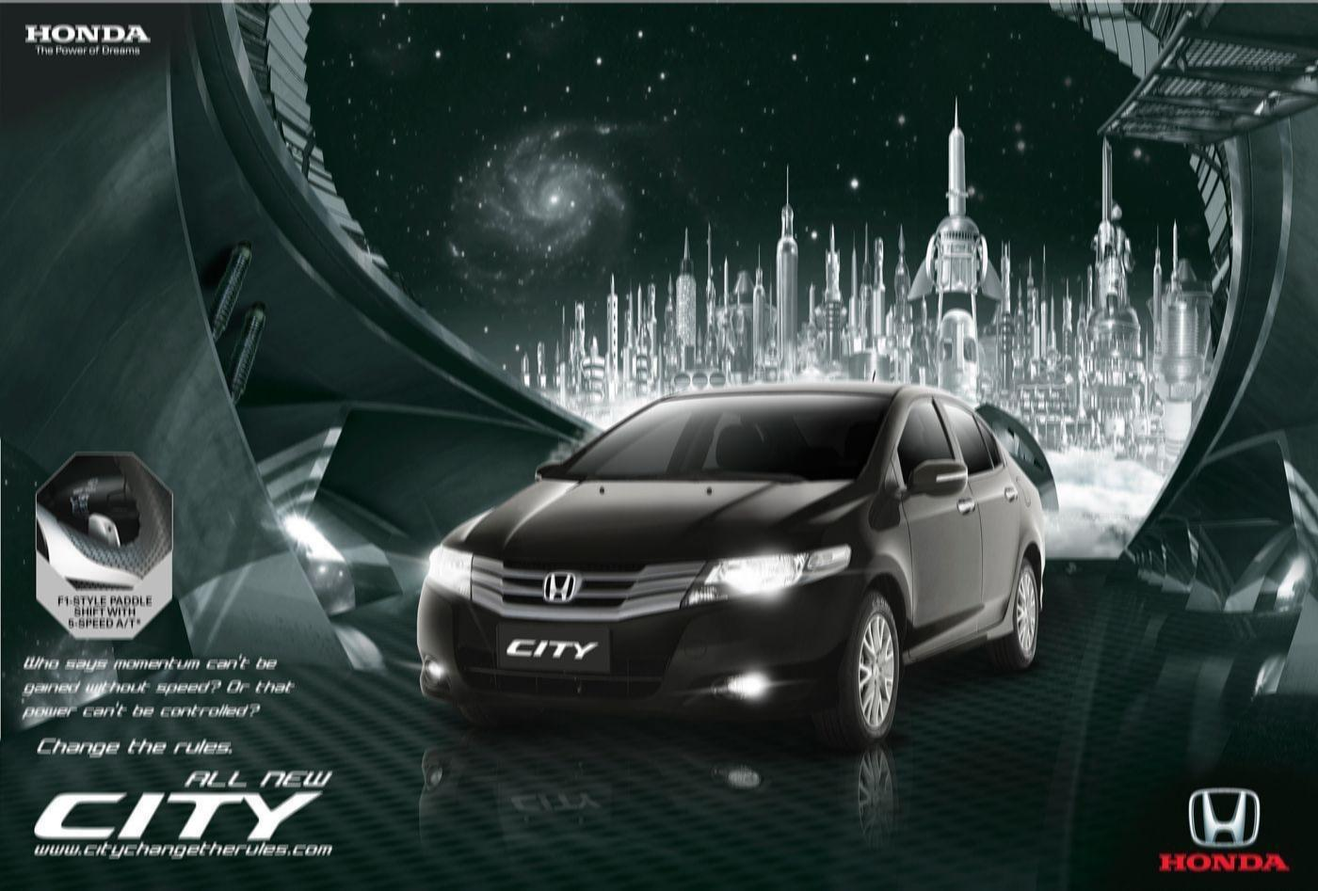Car hood: (451, 472, 876, 574)
Fender - -F-L-: (842, 464, 919, 671)
Front bumper: (406, 595, 882, 742)
Headlight - -L-: (681, 543, 855, 610)
Headlight - -R-: (407, 534, 491, 605)
Passenger-s door - -F-L-: (904, 388, 984, 638)
Passenger-s door - -R-L-: (953, 397, 1030, 627)
Side bumper - -L-: (892, 609, 1025, 669)
Side mirror - -L-: (898, 456, 979, 506)
Side mirror - -R-: (531, 449, 569, 486)
